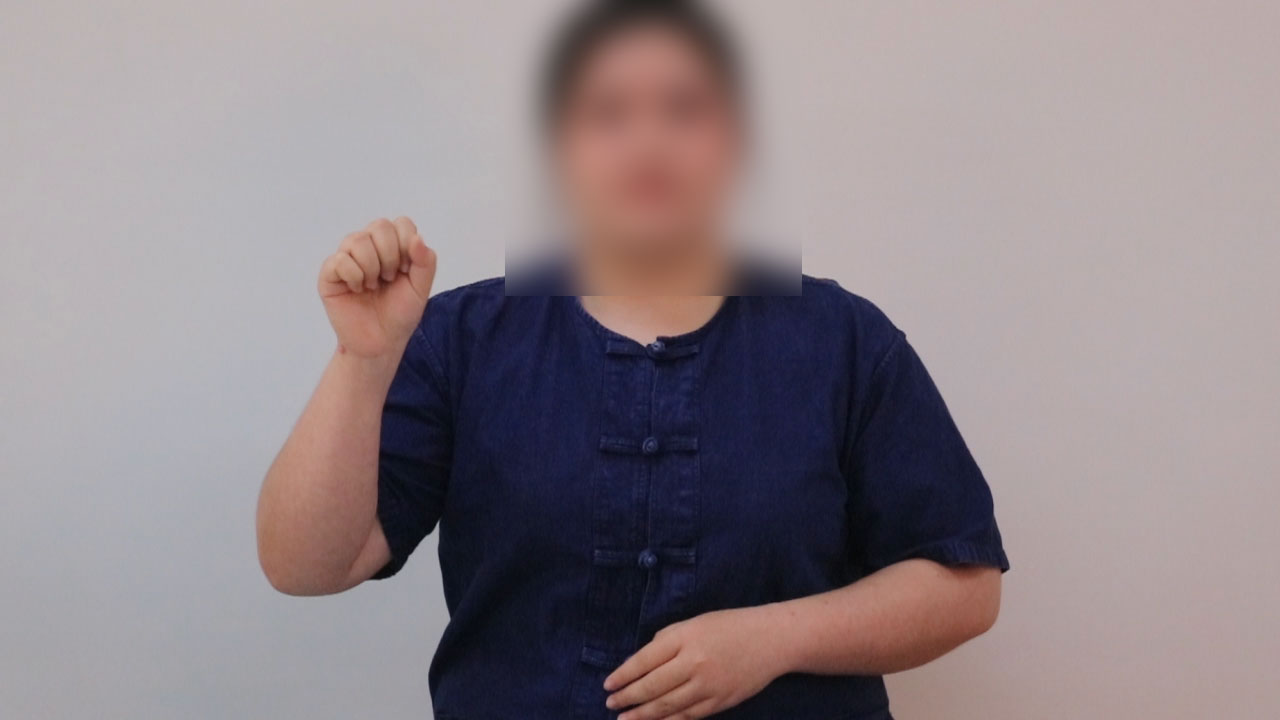sor: (296, 195, 455, 361)
